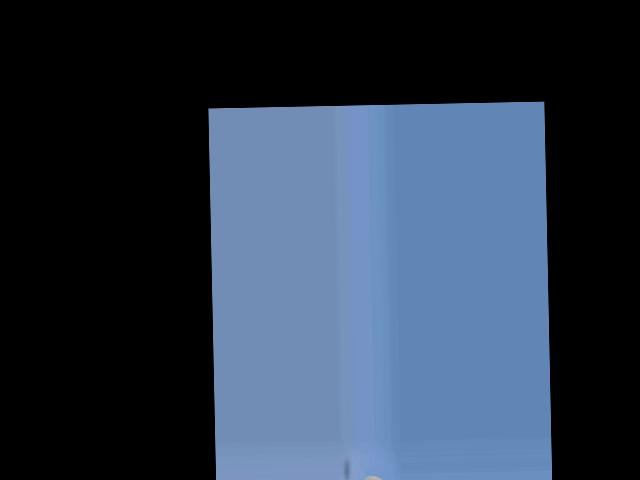egg: (359, 475, 385, 480)
